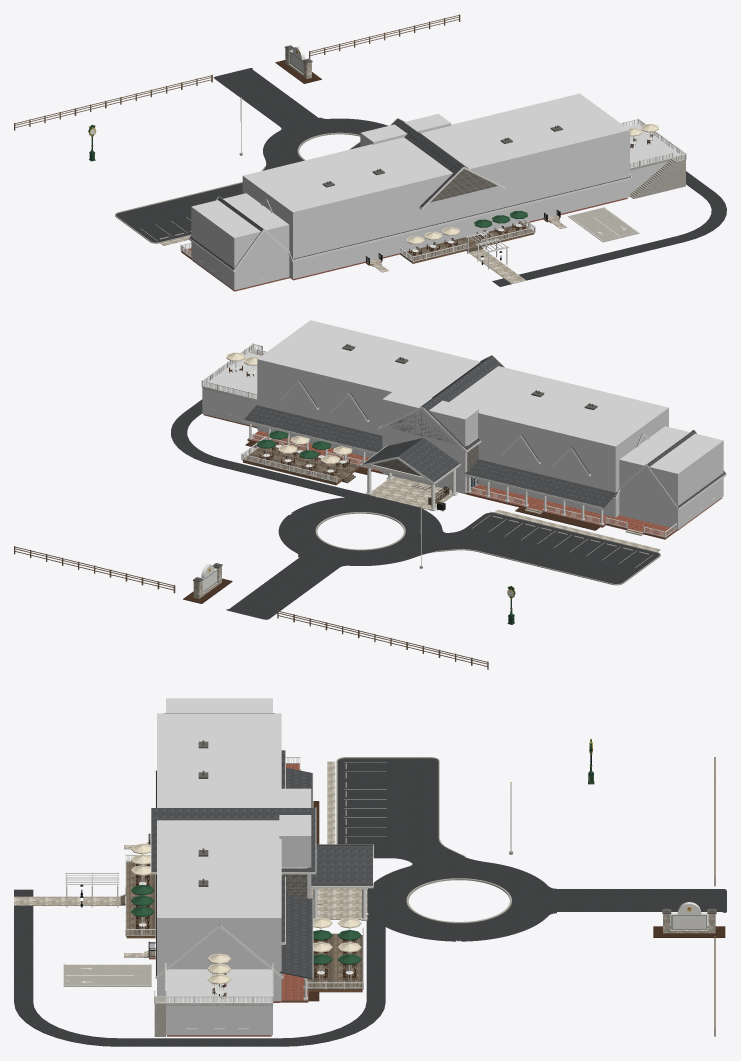
The model's file is clubhouse_l4.gltf.
3 views of the same model, one above another, from view 1: azimuth 30°, elevation 25°; view 2: azimuth 150°, elevation 25°; view 3: azimuth 270°, elevation 25° (orthographic). The views are drawn at different scales.
Visible parts, largest first — view 1: COL_main.002, BASE.002, COL_west.001, ROOF.002, COL_east, COL_pavilion, WALLS_HIGH.002; view 2: BASE.002, COL_main.002, ROOF.002, COL_west.001, COL_pavilion, WALLS_HIGH.002, COL_east; view 3: BASE.002, COL_main.002, ROOF.002, COL_east, COL_pavilion, WALLS_HIGH.002, COL_west.001.
Boxes of the visible parts, x1,y1,x2,y2 form: COL_main.002: (242,93,629,279); BASE.002: (14,14,726,291); COL_west.001: (191,193,289,290); ROOF.002: (188,118,686,272); COL_east: (626,124,680,193); COL_pavilion: (360,114,451,146); WALLS_HIGH.002: (180,210,560,279); BASE.002: (14,350,722,669); COL_main.002: (257,320,668,517); ROOF.002: (201,343,726,510); COL_west.001: (619,426,723,529); COL_pavilion: (382,389,478,493); WALLS_HIGH.002: (211,408,715,537); COL_east: (202,352,260,426); BASE.002: (14,738,726,1046); COL_main.002: (157,713,281,1001); ROOF.002: (150,712,373,1005); COL_east: (166,969,272,1035); COL_pavilion: (279,788,311,898); WALLS_HIGH.002: (125,756,367,1029); COL_west.001: (166,698,272,712).
Size of the model in its own units: 85.37 by 12.97 by 89.2.
57 materials, 13 textured.
